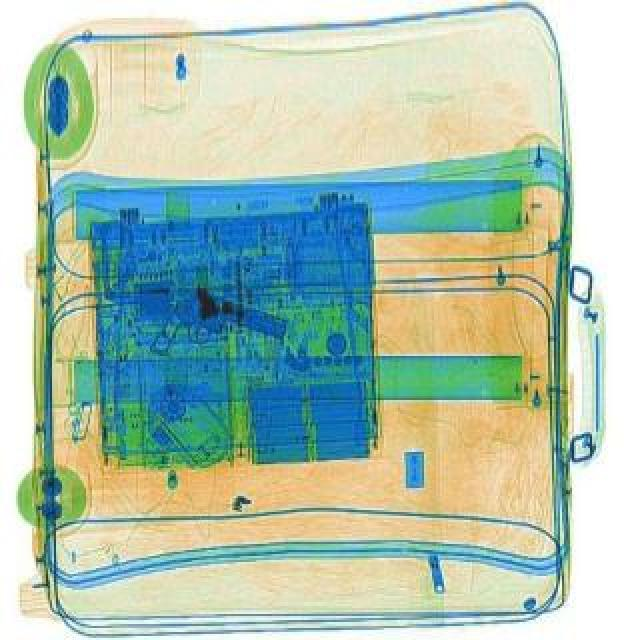gun: (146, 276, 290, 394)
